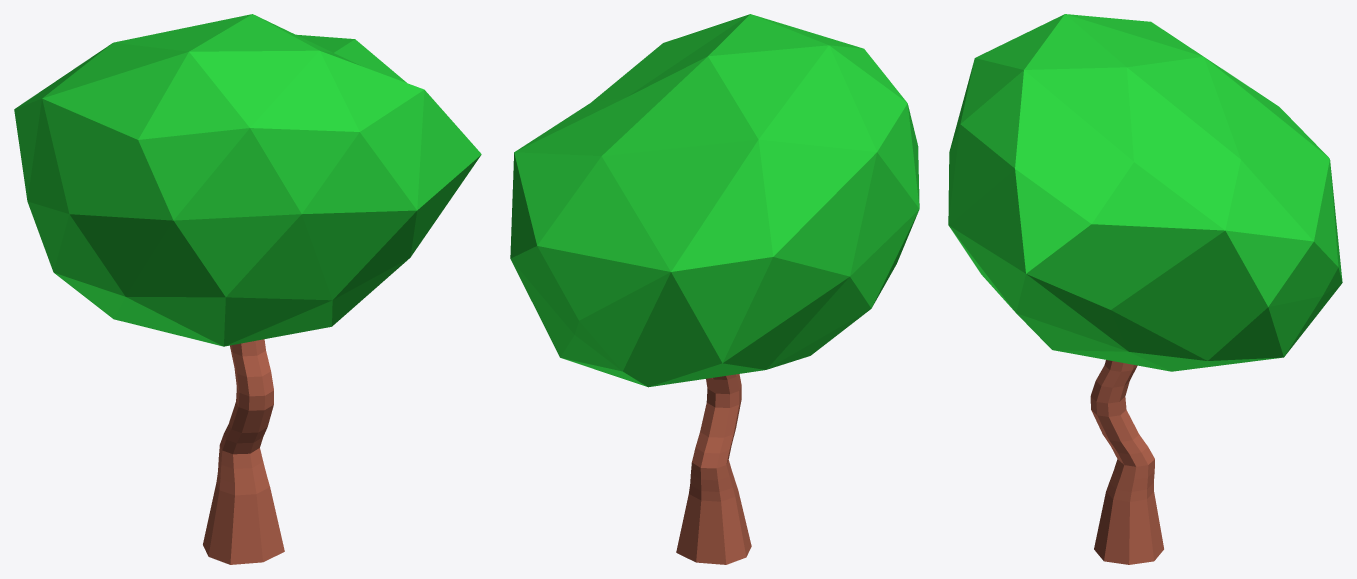
Rendered from TreeA.fbx.
3 views of the same model, side by side, from view 1: azimuth 30°, elevation 25°; view 2: azimuth 150°, elevation 25°; view 3: azimuth 270°, elevation 25° (orthographic). The views are drawn at different scales.
Parts seen in each view (by area): view 1: Icosphere.009, Cube.017; view 2: Icosphere.009, Cube.017; view 3: Icosphere.009, Cube.017.
Boxes of the visible parts, x1,y1,x2,y2 form: Icosphere.009: [14, 14, 481, 346]; Cube.017: [203, 339, 284, 564]; Icosphere.009: [510, 14, 919, 387]; Cube.017: [676, 374, 751, 564]; Icosphere.009: [948, 14, 1342, 371]; Cube.017: [1090, 360, 1163, 564].
Bounding box in the file's own units: 541 × 740 × 534.
